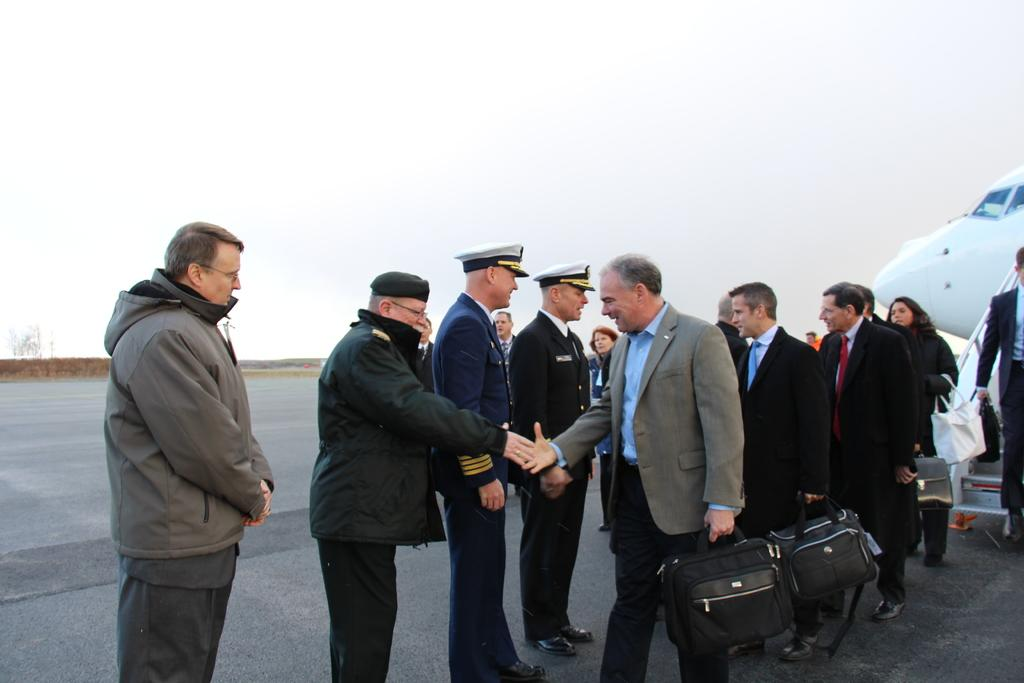Luggage-and-bags: (766, 488, 881, 656), (660, 528, 794, 645), (915, 448, 955, 520), (964, 403, 1004, 466)
